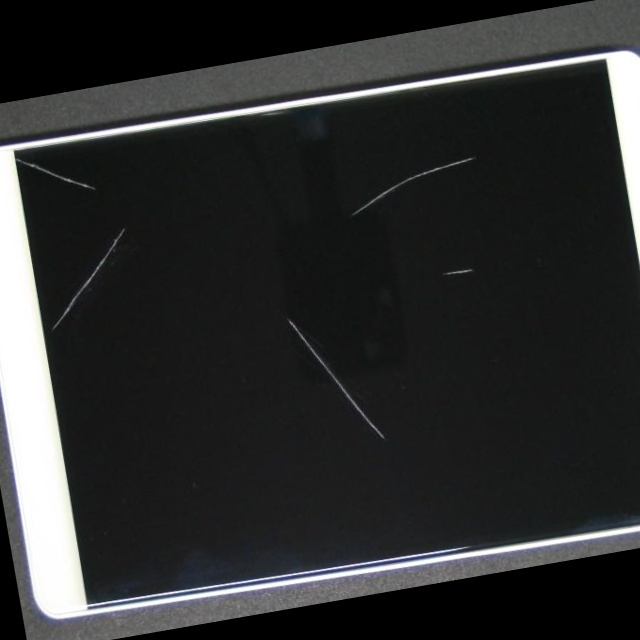scratch: (246, 103, 640, 404), (221, 297, 568, 583), (293, 30, 640, 244), (0, 113, 106, 255)
